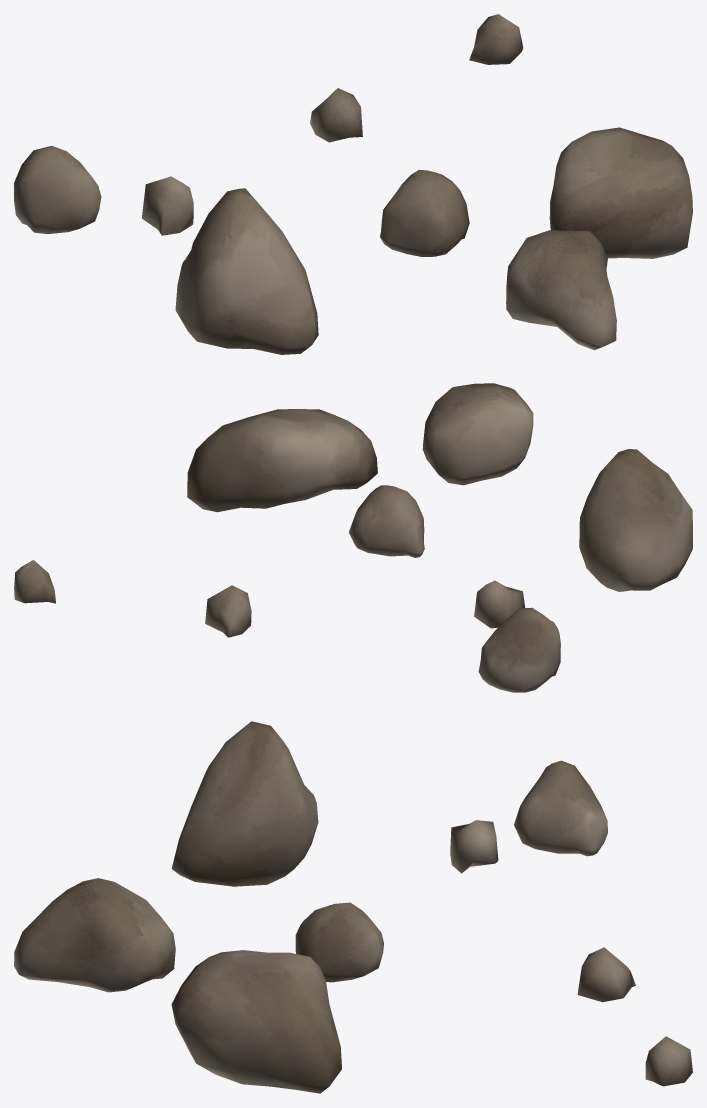
The model's file is pebbles for terrain painting 2.fbx.
3 renders of one model, top to bottom at view 1: azimuth 30°, elevation 25°; view 2: azimuth 150°, elevation 25°; view 3: azimuth 270°, elevation 25°, orthographic. The views are drawn at different scales.
Parts seen in each view (by area): view 1: polySurface8; view 2: polySurface8; view 3: polySurface8.
Part boxes in pixels (box(x1,y1,x2,y2)): polySurface8: box(14, 14, 692, 354); polySurface8: box(14, 383, 692, 692); polySurface8: box(14, 721, 692, 1093).
Bounding box in the file's own units: 23.15 × 6.27 × 24.41.
